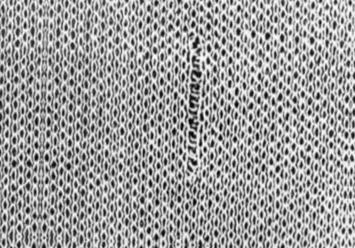slub: (182, 33, 207, 177)
